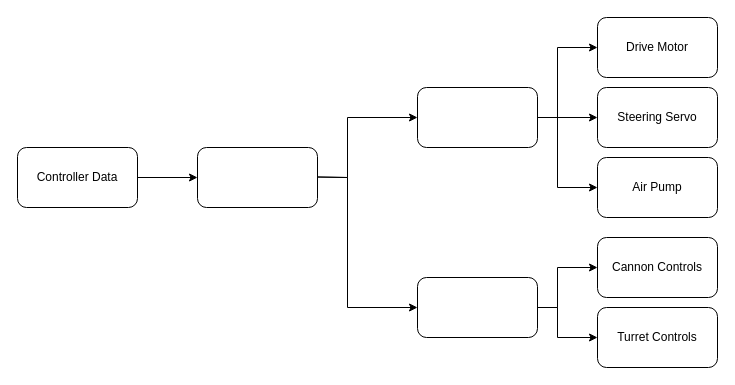
Some shapes in this 735 by 385 pixel diagram are drawn without their labels. Each missing label, with the centre of its shape:
Drive Board: [477,117]
Master Board: [257,177]
Turret Board: [477,307]
